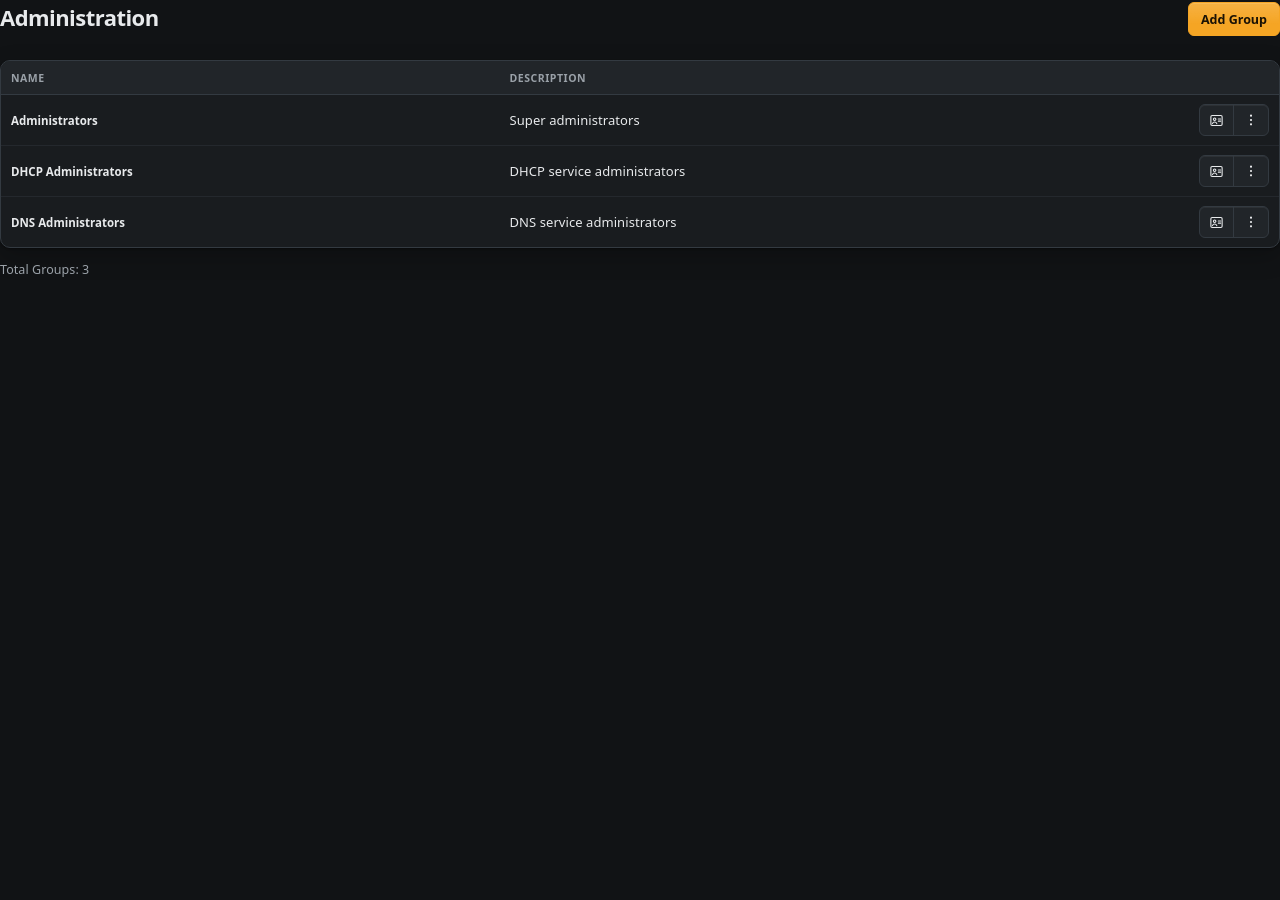
Test case: Groups: the details modal › `newGroup` travels when the name changes
This screenshot has width=1280, height=900.
Click the button named "View Details" in the row of "Super administrators" at point(1216, 120), box [1200,105,1233,135]
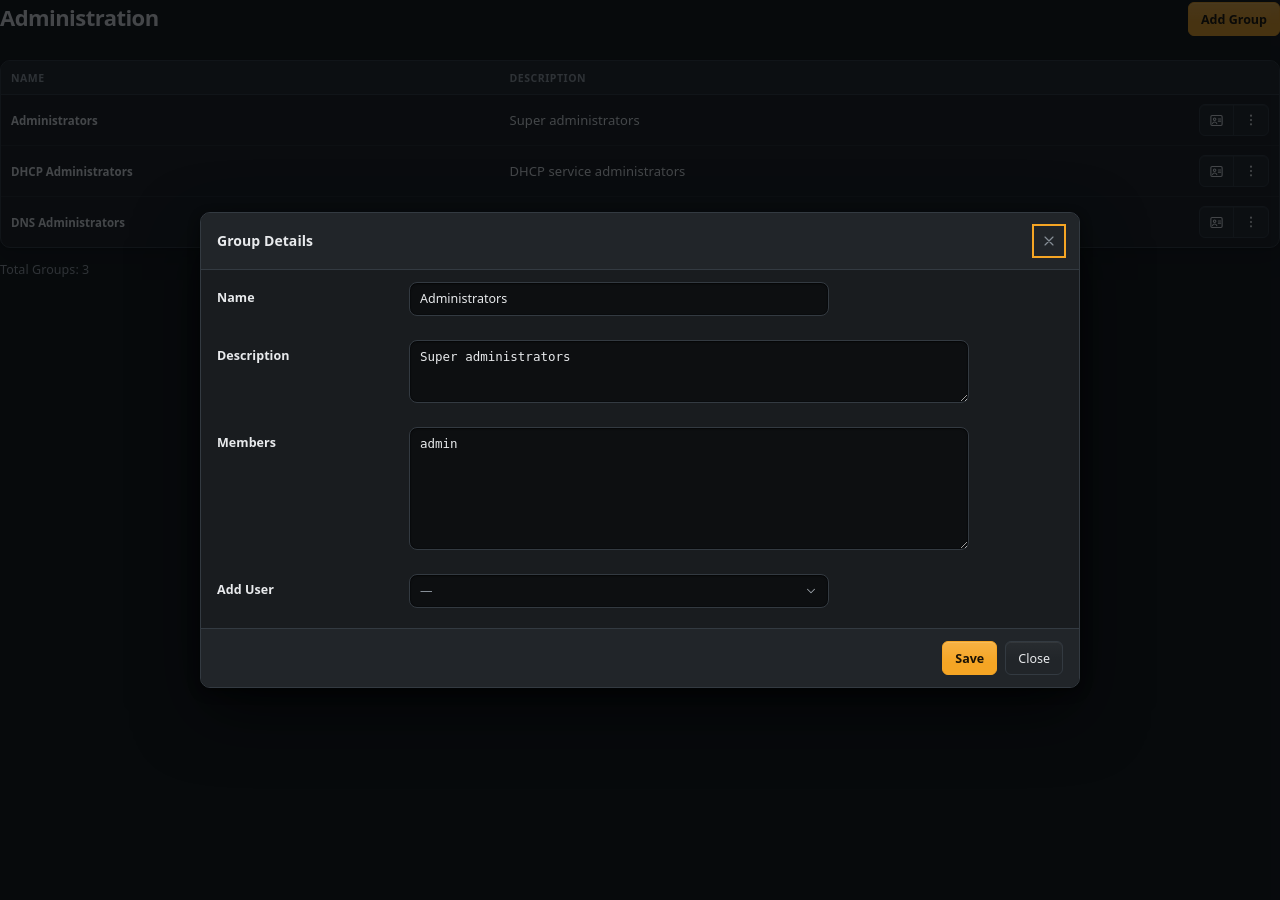
Replace the text in the field labelled "Name" with "Others" at point(619, 299), box [409,282,829,316]
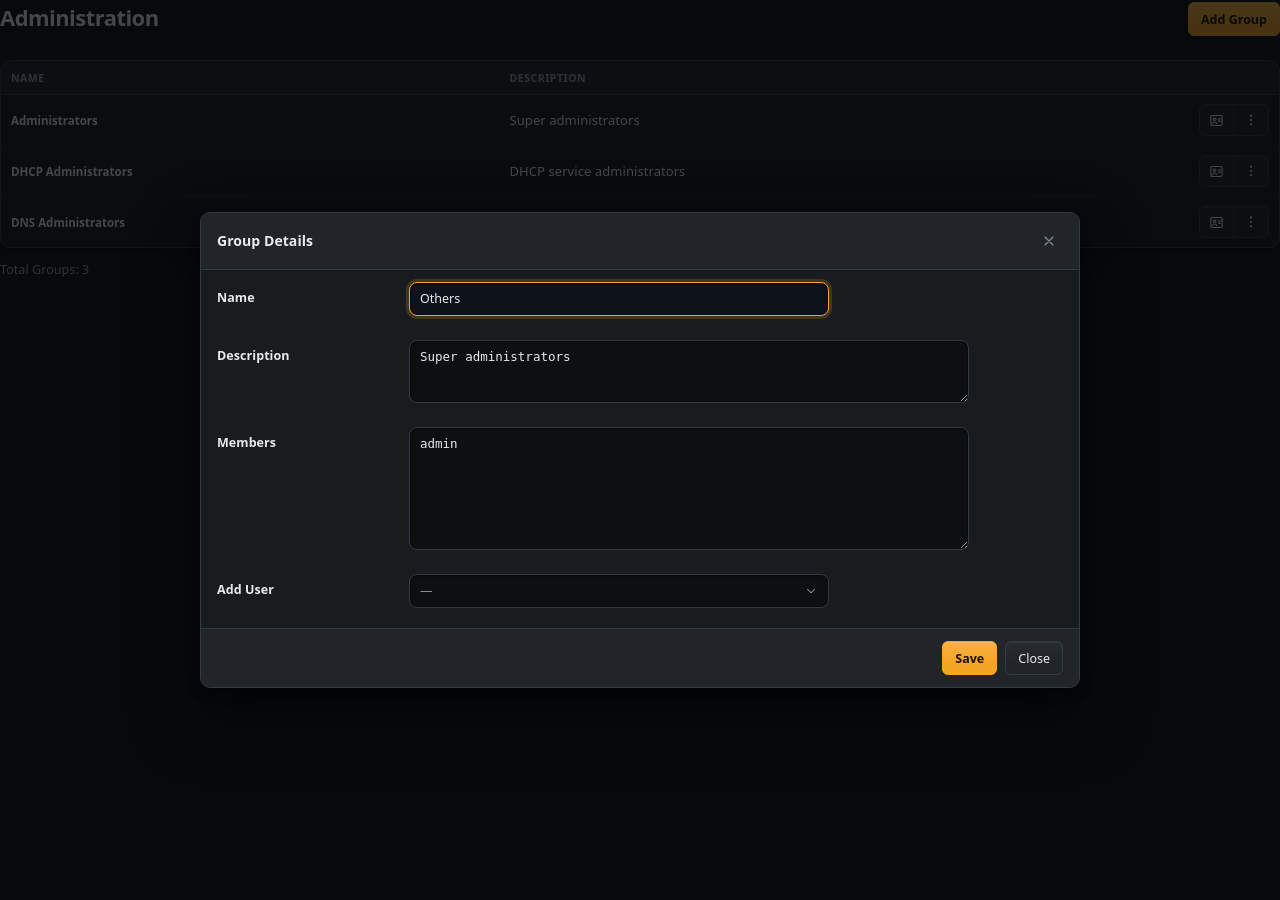
Click the button "Save" at point(970, 658), box [942,641,997,675]
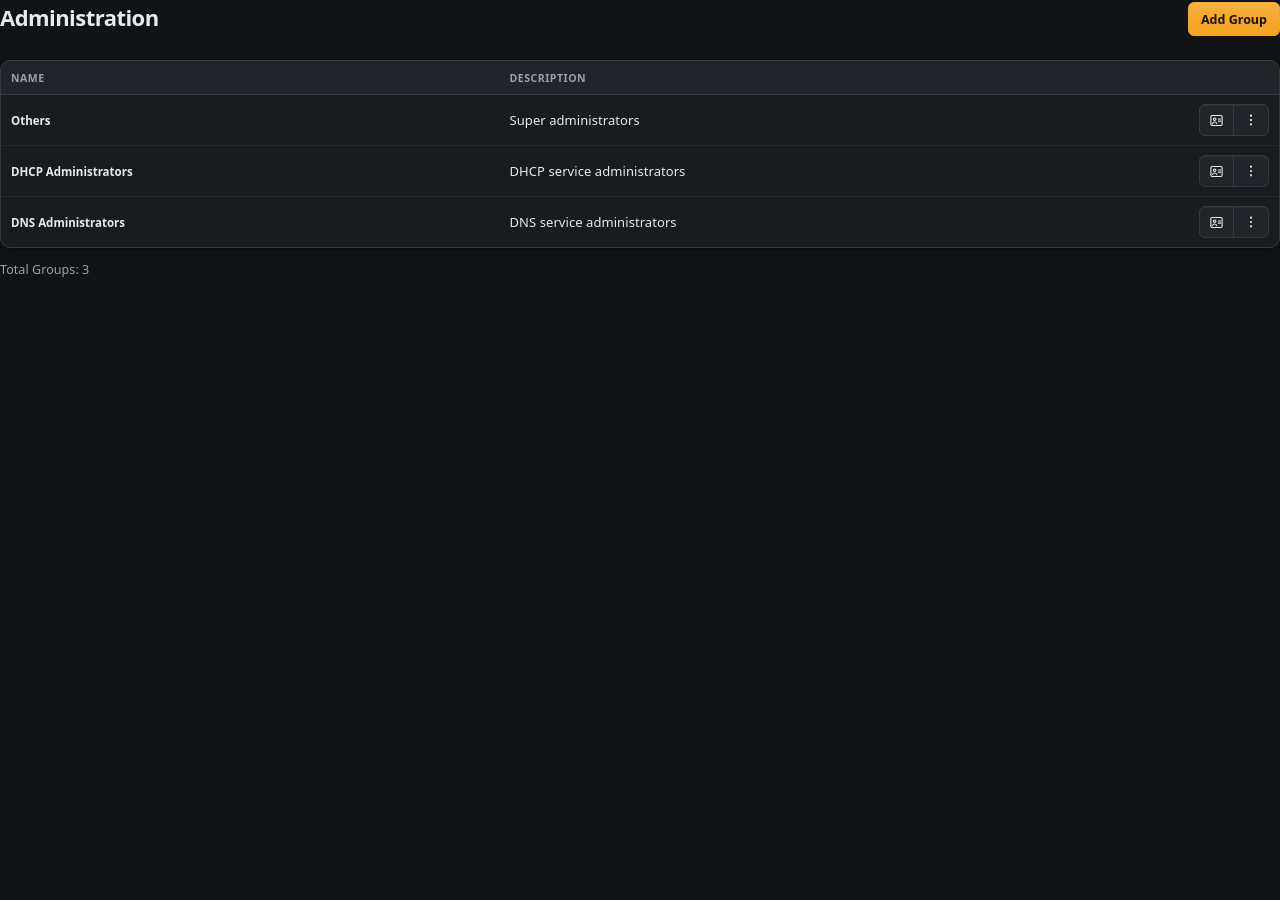
Result: the button "Others" is shown at [11,112,50,130]
